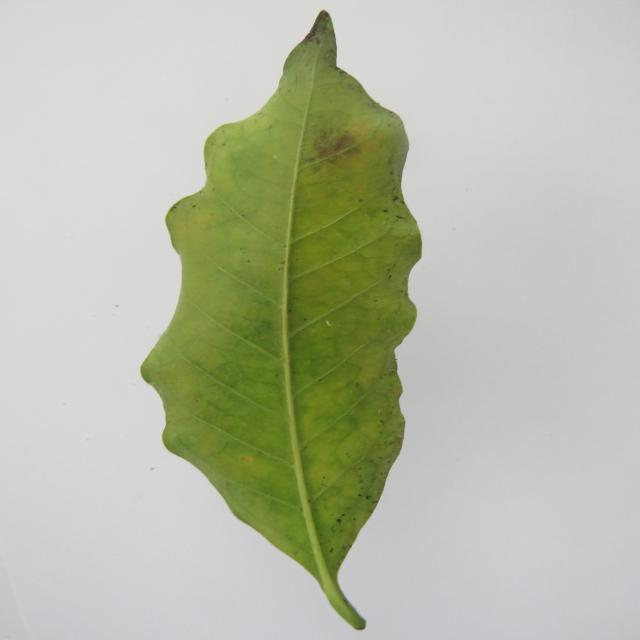DeficienciaNutricional-Calcio: (142, 11, 422, 629)
